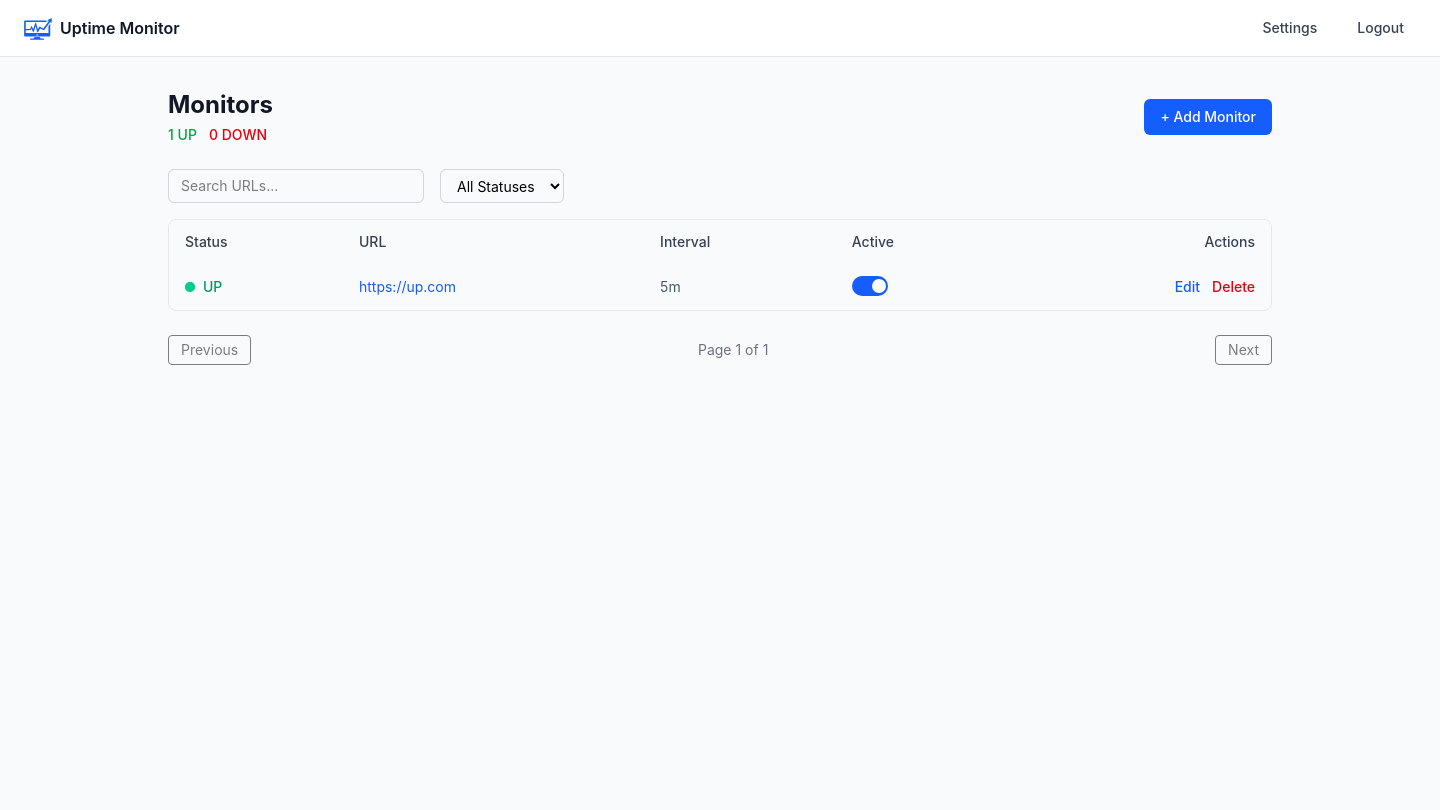
Test case: Dashboard › completes full edit workflow
Click the button "Edit" at [1187, 287], box [1175,277,1200,297]
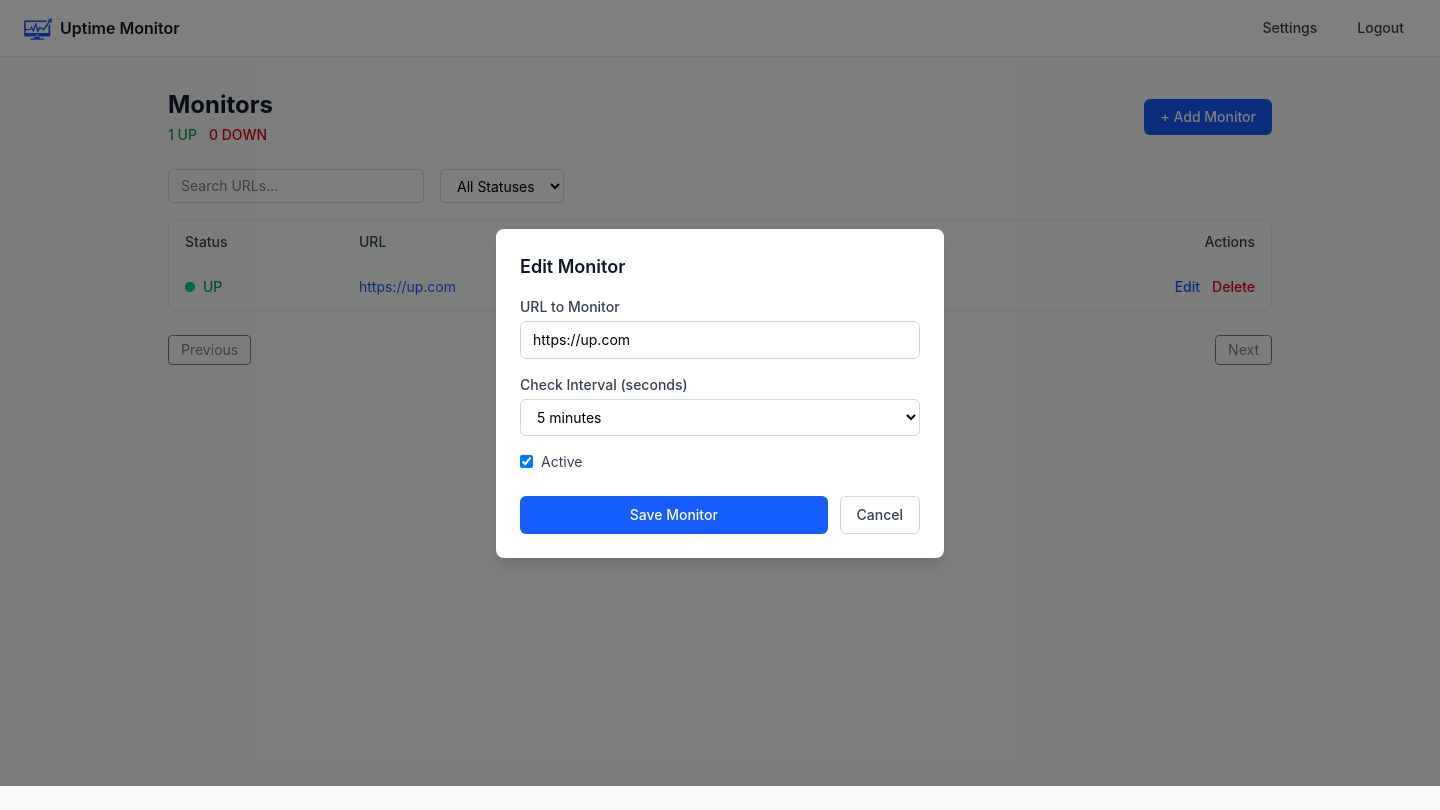
Replace the text in the field with placeholder "https://example.com" with "https://edited.com" at [720, 340], box [520,320,920,358]
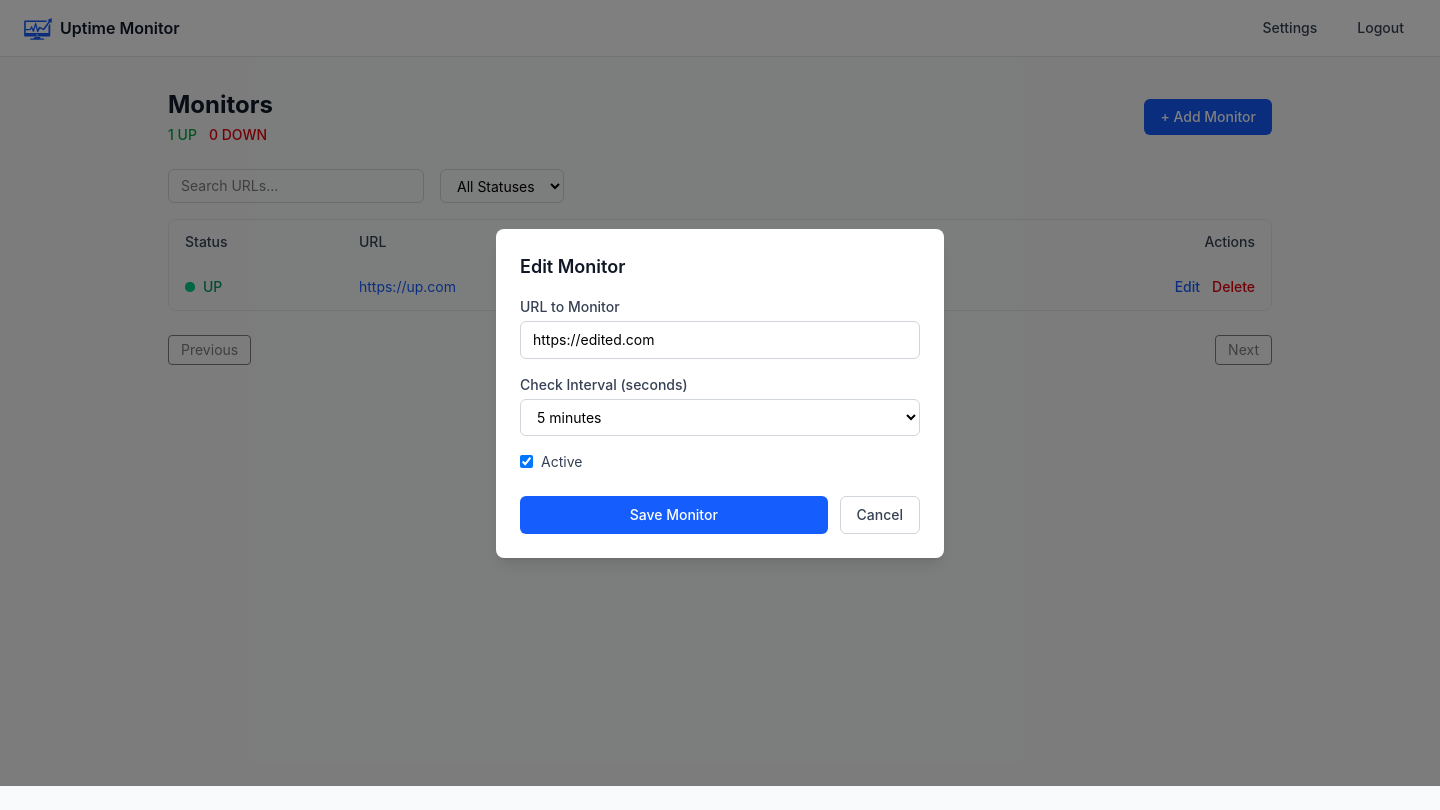
Click the button "Save Monitor" at [674, 514], box [520,496,828,534]
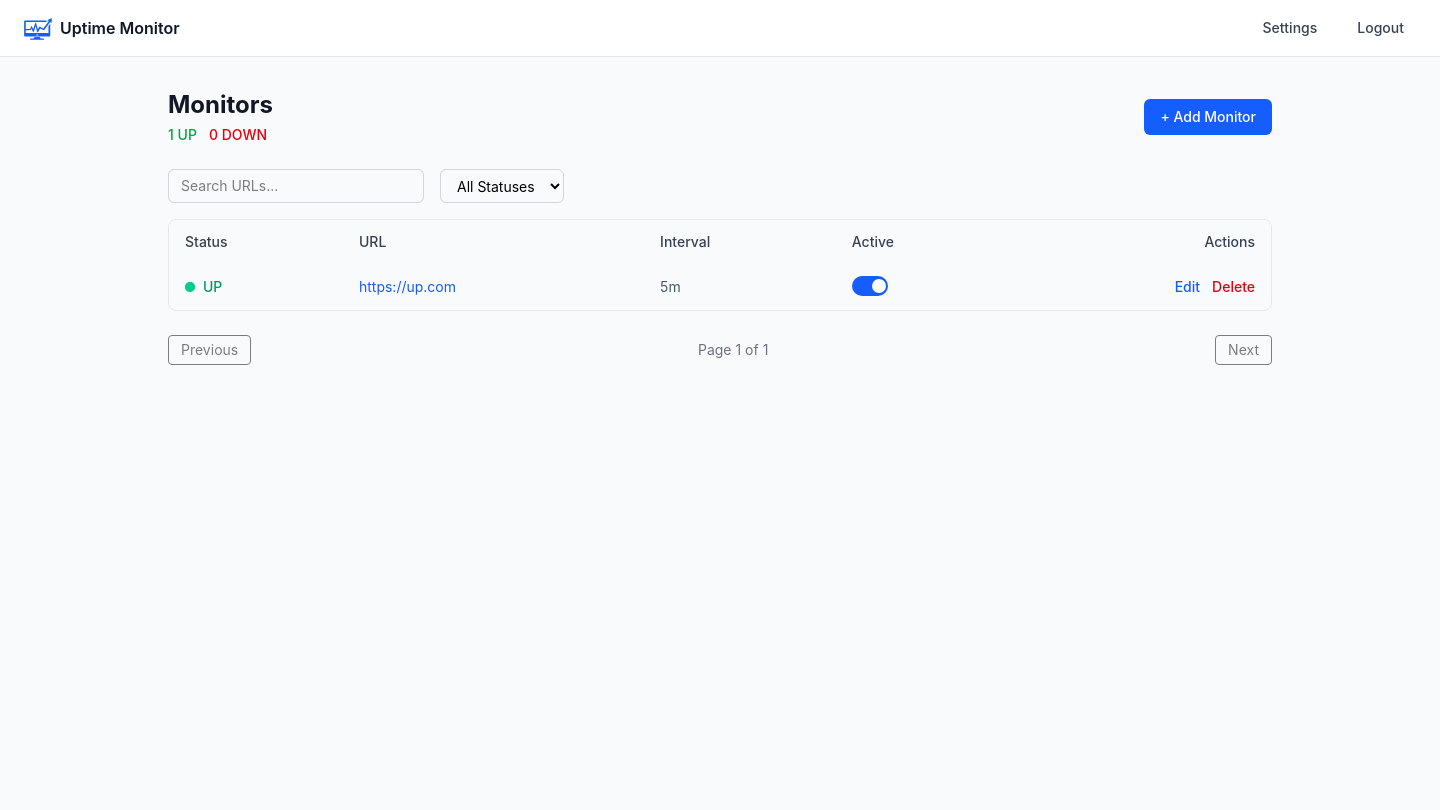
Now the heading "Edit Monitor" is gone
